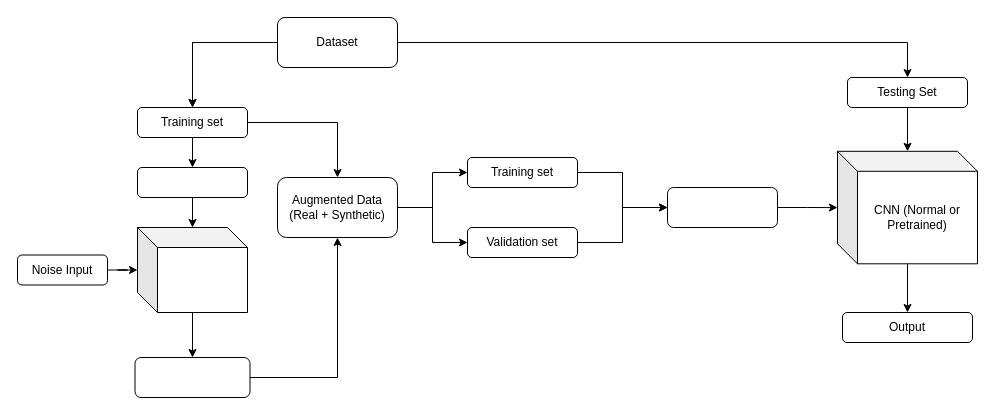
Image size: 995x415. Some labels were removed from this diagram. The box of each missing label's shape, as (x1, y1, x2, y2) in pixels:
CNN Training: (666, 186, 778, 228)
GANs Training: (136, 166, 248, 198)
Generator: (136, 226, 248, 312)
Synthetic Images: (134, 356, 250, 398)
